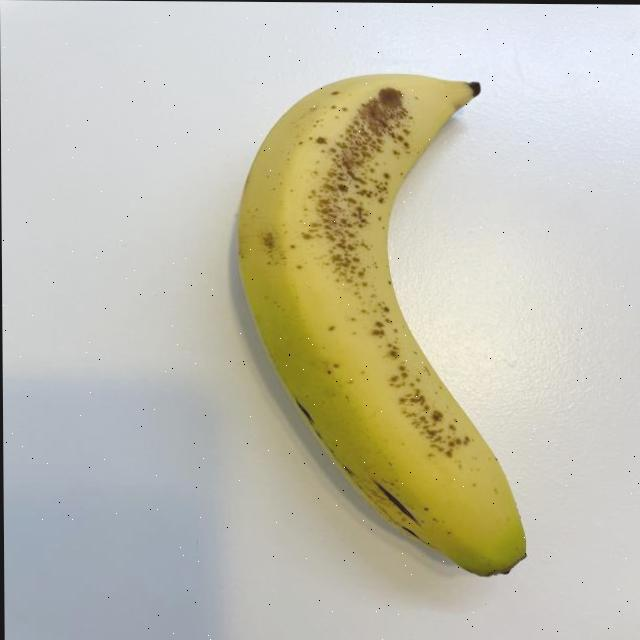banana: (229, 67, 542, 587)
